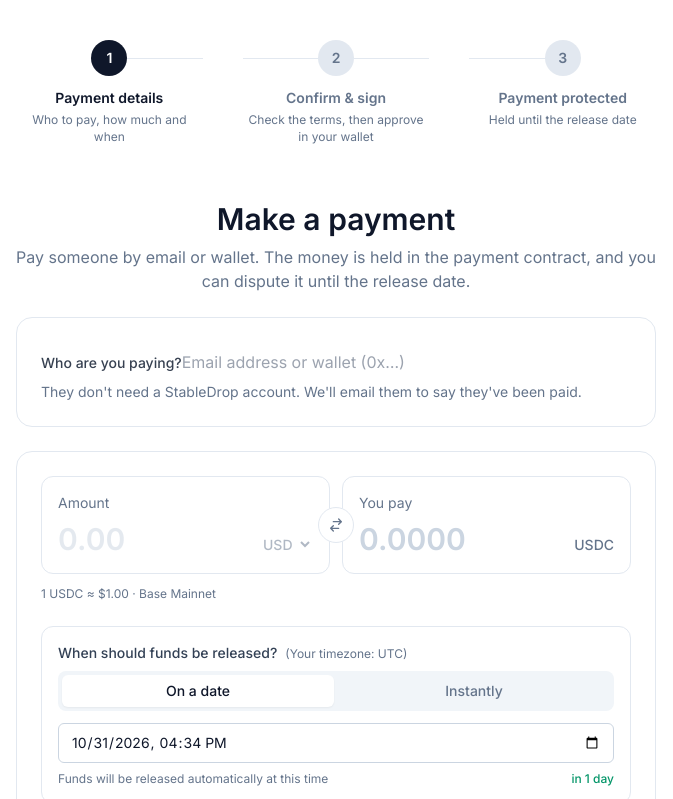
Test case: /pay › checks the site rule before asking ap2service: 0.5 allowed=false
Step 1. Type "seller@example.com" into the field with placeholder "Email address or wallet (0x…)" → (299,362), box top-left (182, 350), bottom-right (416, 374)
(page scrolled)
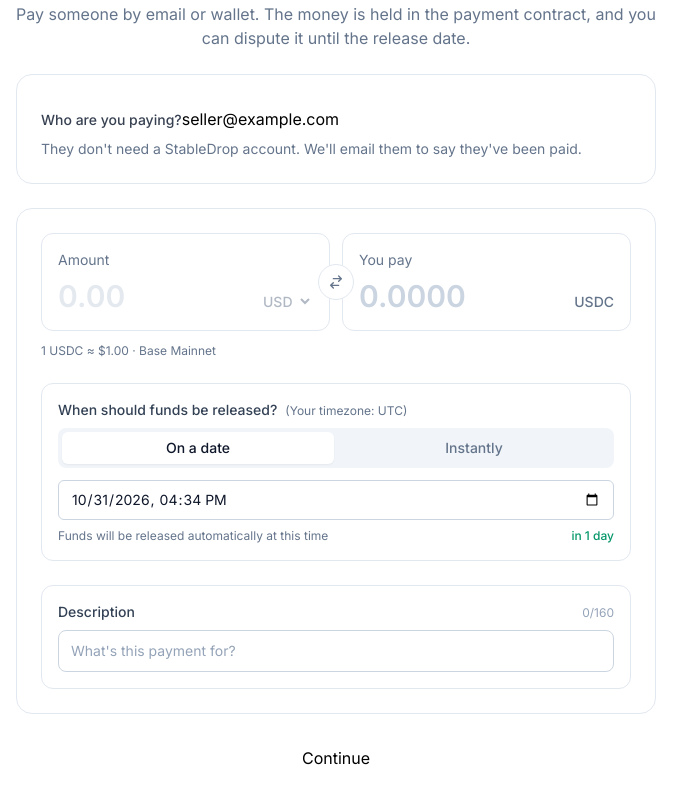
Step 2. Type "Logo design" into the field with placeholder "What's this payment for?" → (336,651), box top-left (58, 630), bottom-right (614, 672)
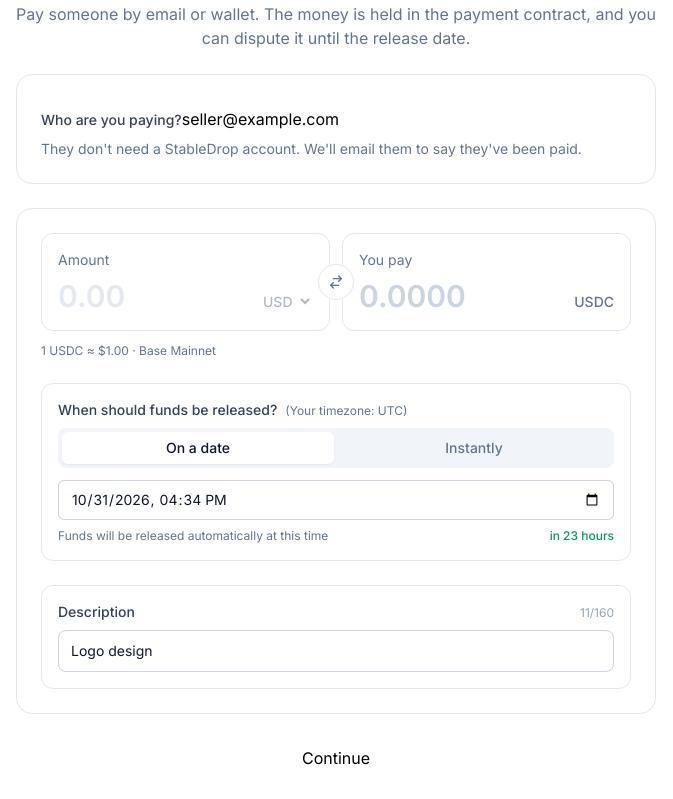
Step 3. Type "0.5" into the number field with placeholder "0.0000" → (463,296), box top-left (359, 278), bottom-right (566, 314)
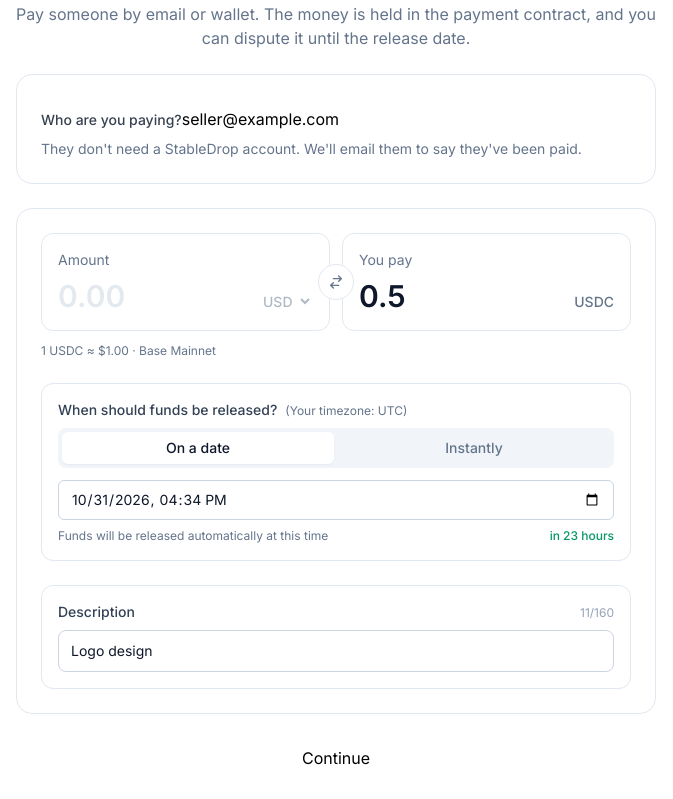
Step 4. Click the button "Continue" → (336,758), box top-left (302, 746), bottom-right (370, 770)
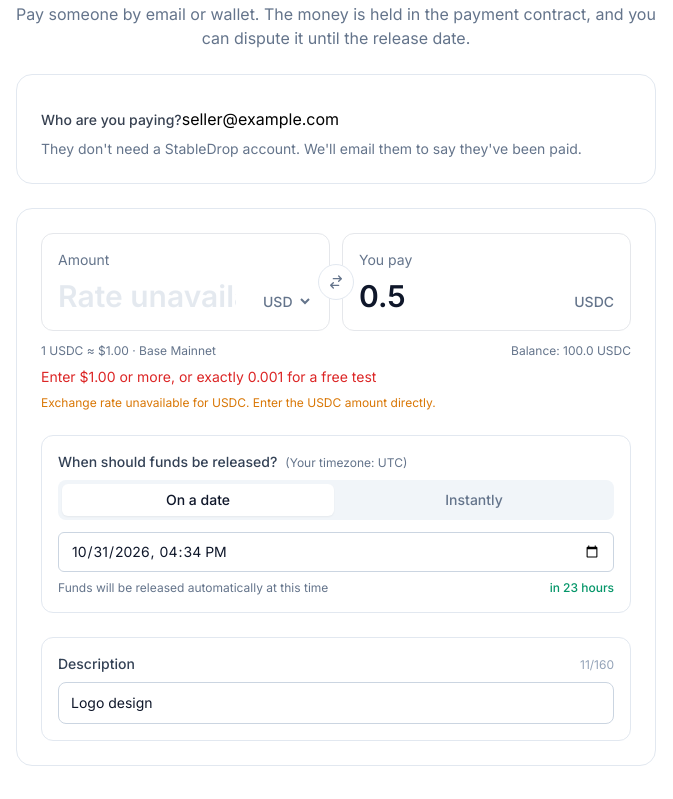
Expected: the text "Enter $1.00 or more, or exactly 0.001 for a free test" is shown, top-left (41, 368), bottom-right (376, 385)
